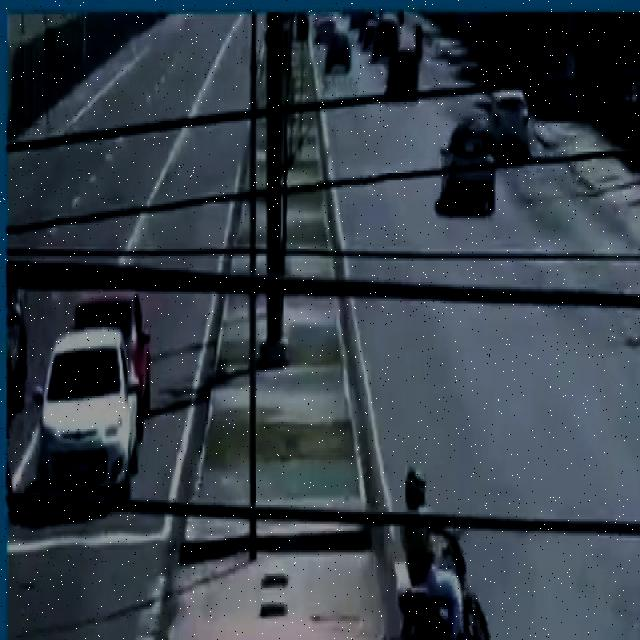biker: (388, 460, 499, 640)
car: (35, 318, 144, 525)
